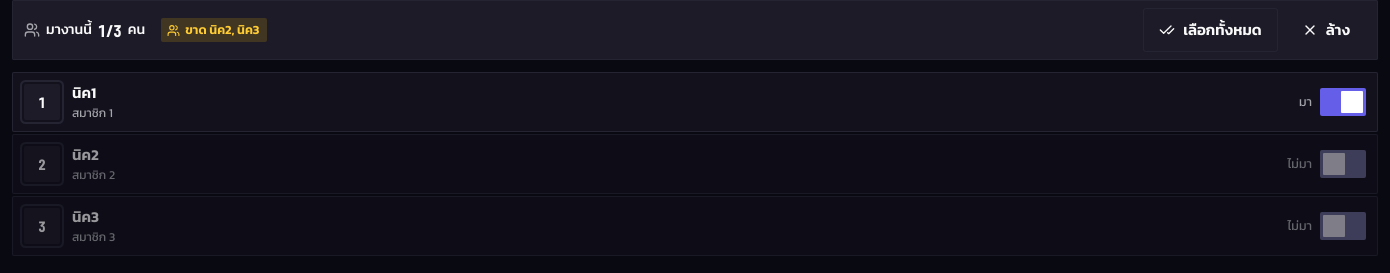
Test: LineupEditor · a write that changed nothing on the server › live session: เลือกทั้งหมด whose upsert ignored members already in is still บันทึกแล้ว
The width and height of the screenshot is (1390, 273).
Click the button "เลือกทั้งหมด" at (1210, 30), box [1143,8,1278,52]
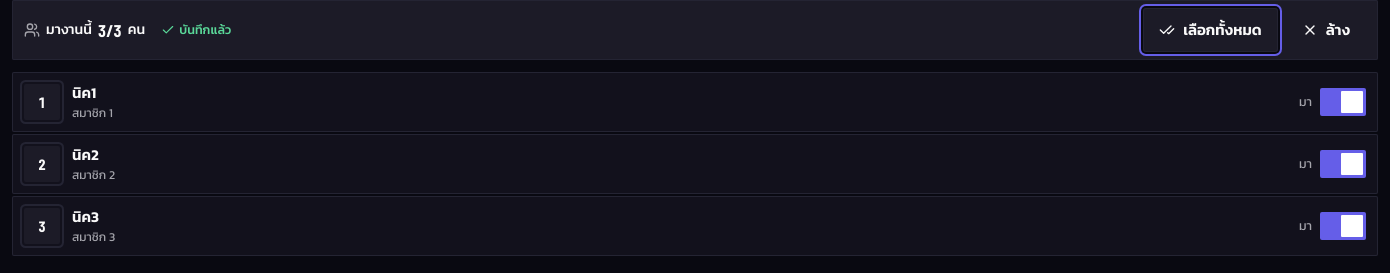
Expected: the text "บันทึกแล้ว" is shown, [161,21,231,39]
